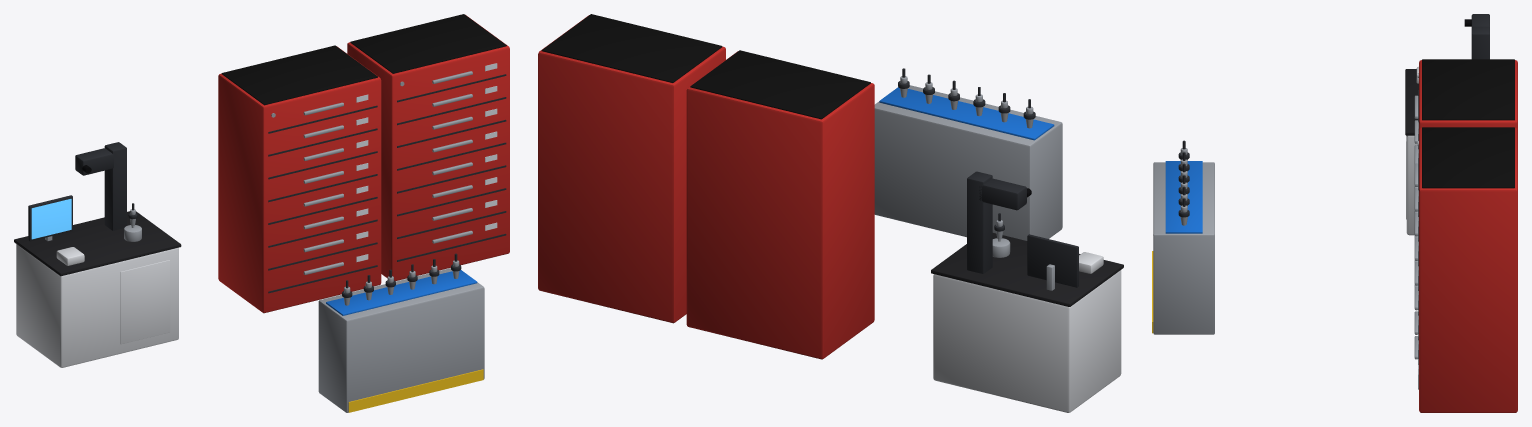
Rendered from Station_ToolStore.fbx.
3 renders of one model, left to right at view 1: azimuth 30°, elevation 25°; view 2: azimuth 150°, elevation 25°; view 3: azimuth 270°, elevation 25°, orthographic. The views are drawn at different scales.
Visible parts, largest first — view 1: Tool Cabinet B, Tool Cabinet A, Tool Presetter, Tool Pickup Rack; view 2: Tool Cabinet B, Tool Cabinet A, Tool Presetter, Tool Pickup Rack; view 3: Tool Cabinet A, Tool Pickup Rack, Tool Cabinet B, Tool Presetter.
Part boxes in pixels (bbox=[...]): Tool Cabinet B: bbox=[218, 45, 381, 313]; Tool Cabinet A: bbox=[347, 14, 509, 281]; Tool Presetter: bbox=[14, 142, 181, 367]; Tool Pickup Rack: bbox=[318, 253, 484, 412]; Tool Cabinet B: bbox=[686, 50, 874, 359]; Tool Cabinet A: bbox=[538, 14, 725, 323]; Tool Presetter: bbox=[931, 171, 1123, 412]; Tool Pickup Rack: bbox=[874, 68, 1062, 240]; Tool Cabinet A: bbox=[1414, 127, 1517, 412]; Tool Pickup Rack: bbox=[1152, 140, 1214, 334]; Tool Cabinet B: bbox=[1414, 59, 1517, 286]; Tool Presetter: bbox=[1405, 14, 1489, 235].
Size of the model in its own units: 4.61 by 2.01 by 2.96.
